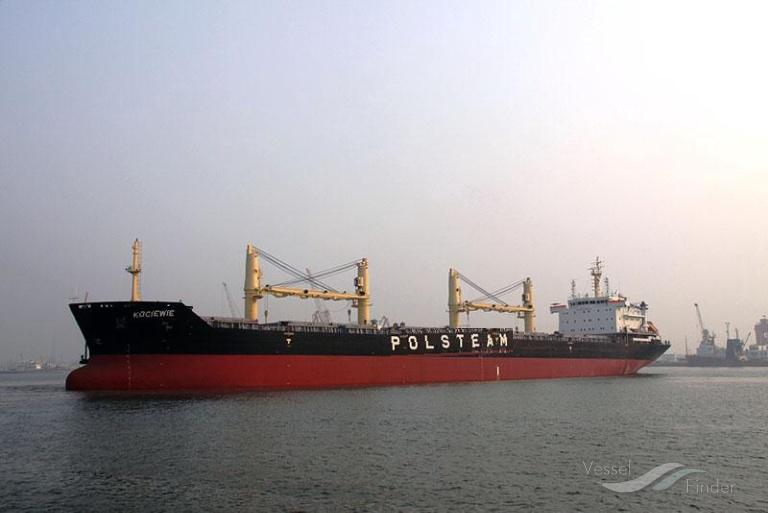OCR: (380, 328, 514, 360), (123, 306, 194, 329)
